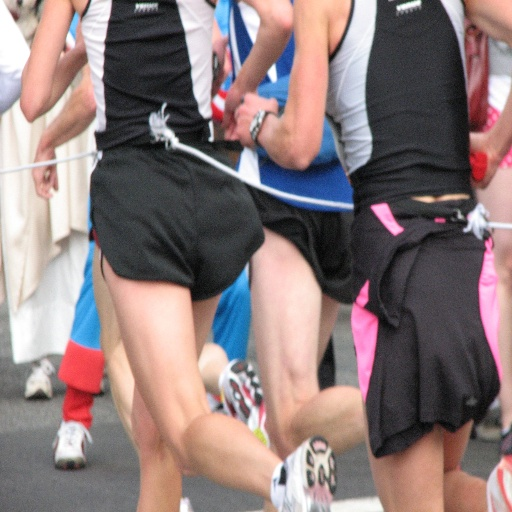hand: (235, 88, 277, 149), (221, 81, 258, 142), (29, 136, 59, 197), (468, 133, 500, 190), (210, 29, 228, 76), (72, 14, 86, 60)
